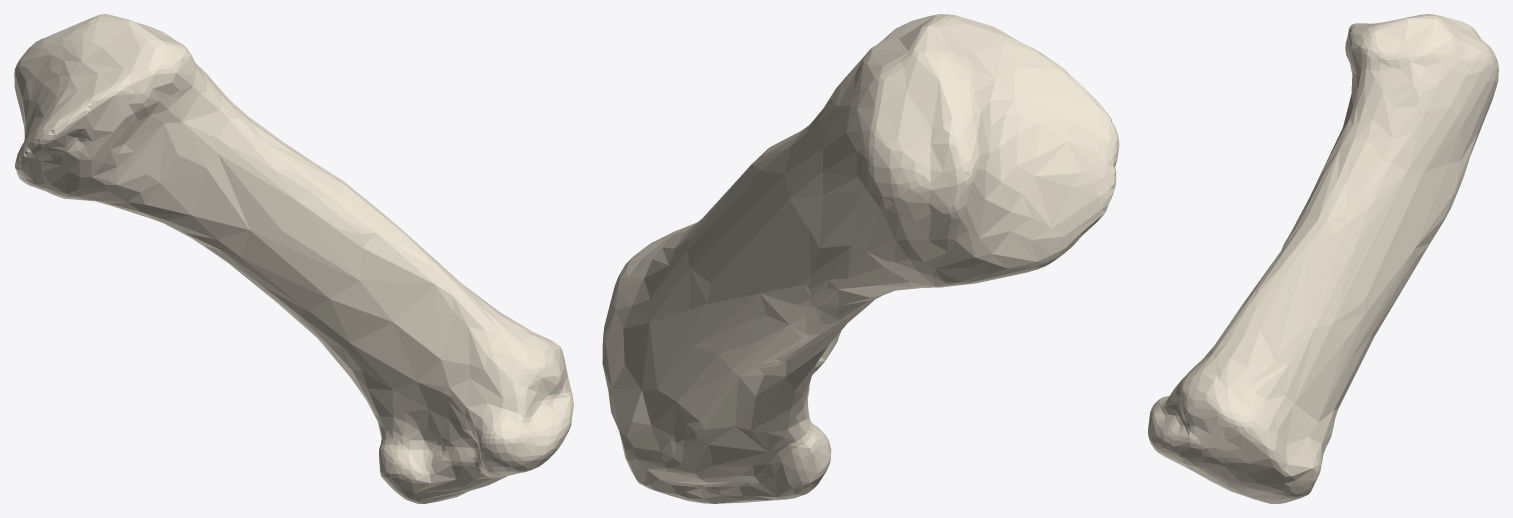
File: left_metacarpal_1.glb
3 views of the same model, side by side, from view 1: azimuth 30°, elevation 25°; view 2: azimuth 150°, elevation 25°; view 3: azimuth 270°, elevation 25° (orthographic). The views are drawn at different scales.
Parts seen in each view (by area): view 1: left_metacarpal_1; view 2: left_metacarpal_1; view 3: left_metacarpal_1.
Part boxes in pixels (left/top/right/bottom): left_metacarpal_1: left=14, top=14, right=573, bottom=503; left_metacarpal_1: left=602, top=14, right=1119, bottom=503; left_metacarpal_1: left=1148, top=14, right=1498, bottom=503.
Size of the model in its own units: 0.0375 by 0.0372 by 0.0307.
